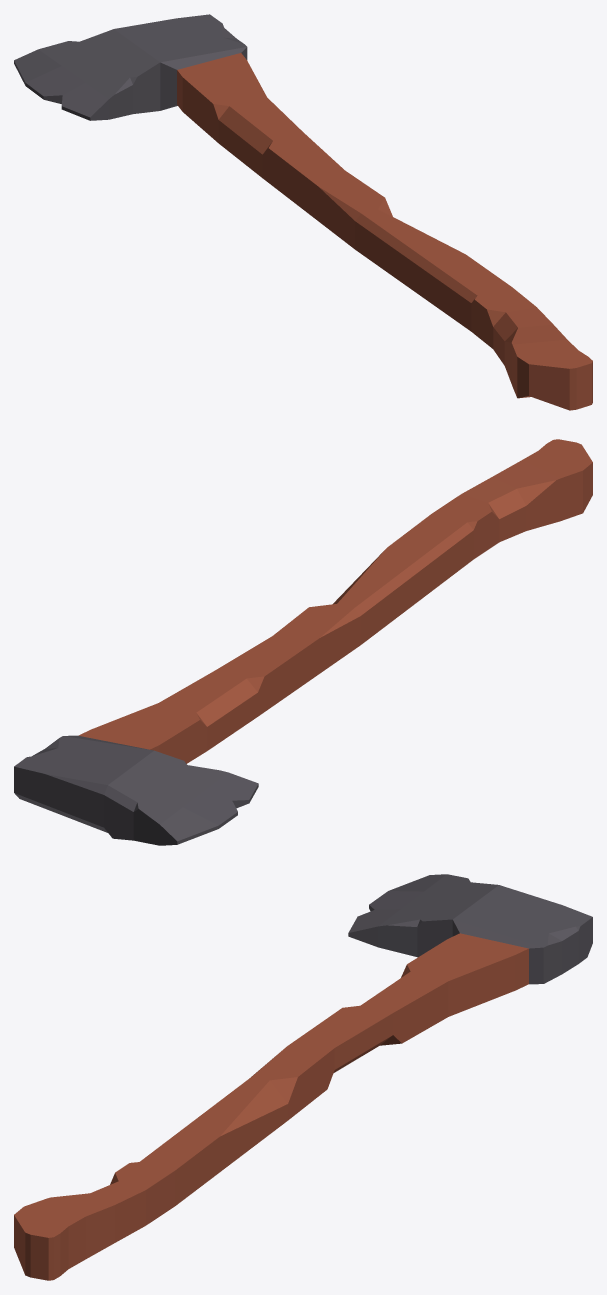
3 views of the same model, one above another, from view 1: azimuth 30°, elevation 25°; view 2: azimuth 150°, elevation 25°; view 3: azimuth 330°, elevation 25° (orthographic). The views are drawn at different scales.
Visible parts, largest first — view 1: SM_Ax_01; view 2: SM_Ax_01; view 3: SM_Ax_01.
Part boxes in pixels (x1=…): SM_Ax_01: x1=14, y1=14, x2=592, y2=410; SM_Ax_01: x1=14, y1=439, x2=592, y2=845; SM_Ax_01: x1=14, y1=874, x2=592, y2=1280.
Bounding box in the file's own units: 0.1711 × 0.0413 × 0.7321.
1 material, 1 textured.
